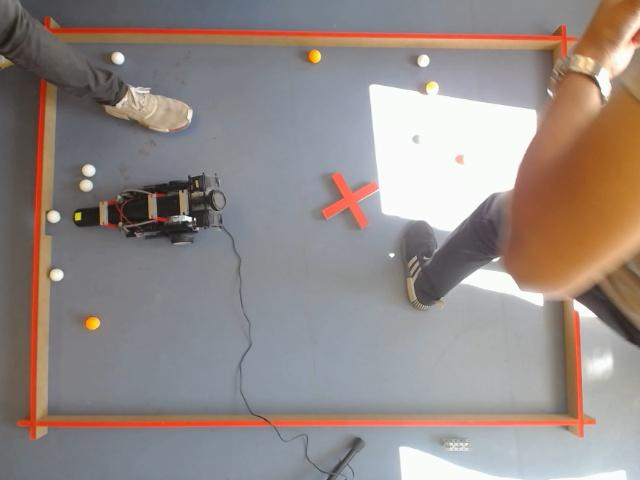orange: (306, 48, 322, 64), (424, 80, 440, 96), (84, 316, 102, 330)
robot: (73, 173, 227, 244)
robot-front: (73, 208, 96, 227)
white: (424, 80, 440, 96), (48, 268, 64, 283), (110, 51, 125, 66), (46, 209, 61, 224), (416, 54, 430, 68), (78, 179, 93, 192), (82, 165, 96, 177)
